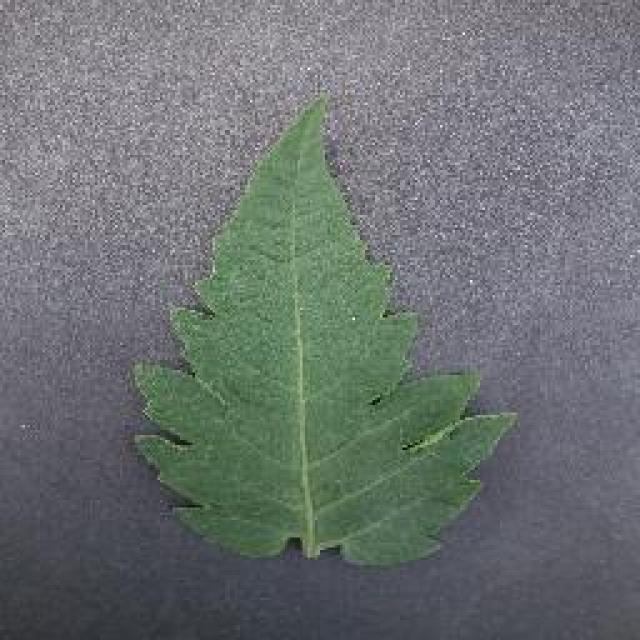Tomato_Healthy: (116, 90, 531, 582)
